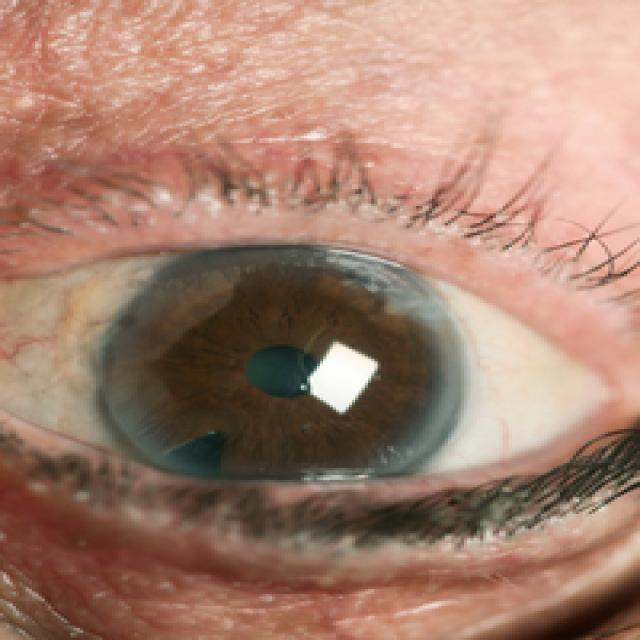Normal: (93, 226, 472, 515)
